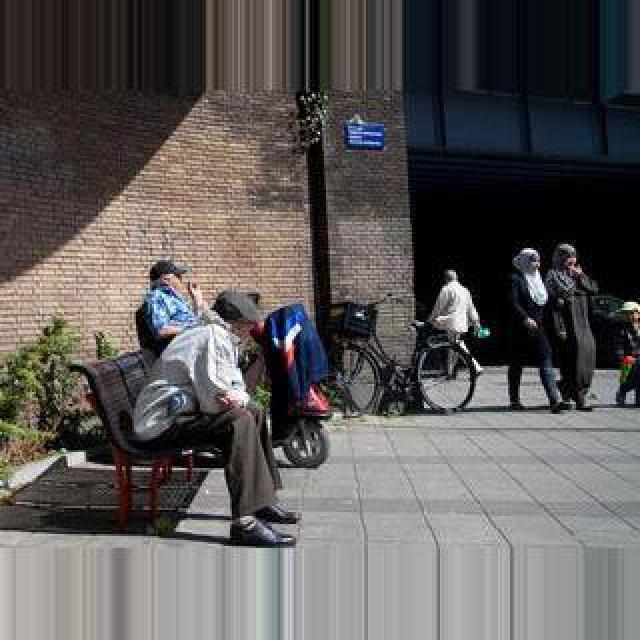MC-Bike: (86, 312, 298, 546), (504, 246, 568, 414), (546, 246, 600, 410), (136, 258, 204, 356), (426, 268, 482, 386), (612, 300, 640, 408)
Person: (325, 297, 481, 419)
